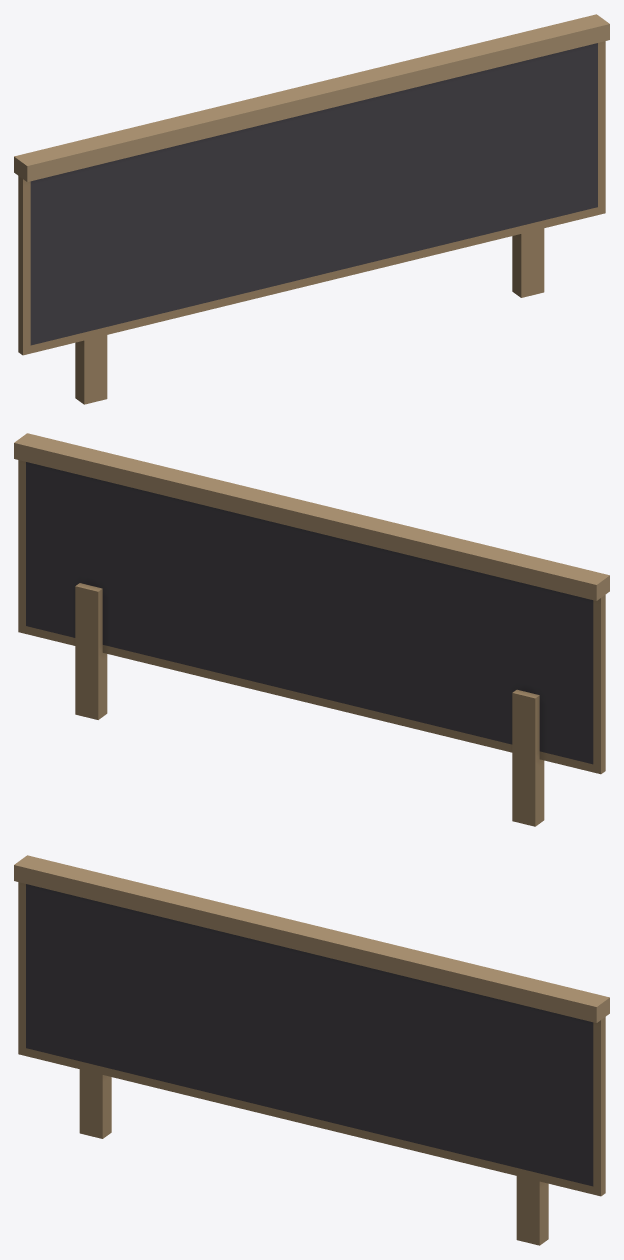
File: tableau.glb
The picture shows the model from 3 angles, top to bottom: view 1: azimuth 30°, elevation 25°; view 2: azimuth 150°, elevation 25°; view 3: azimuth 330°, elevation 25°; orthographic projection.
Visible parts, largest first — view 1: geometry_0; view 2: geometry_0; view 3: geometry_0.
Boxes of the visible parts, x1,y1,x2,y2 form: geometry_0: [14, 14, 609, 404]; geometry_0: [14, 433, 609, 826]; geometry_0: [14, 855, 609, 1245].
Bounding box in the file's own units: 9.5 × 4 × 0.375.
